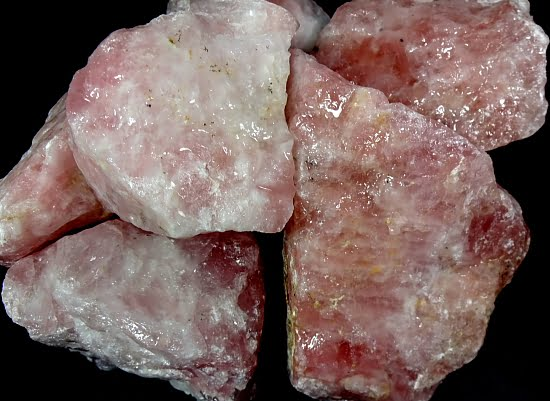Rose_Quartz: (73, 9, 530, 395)
